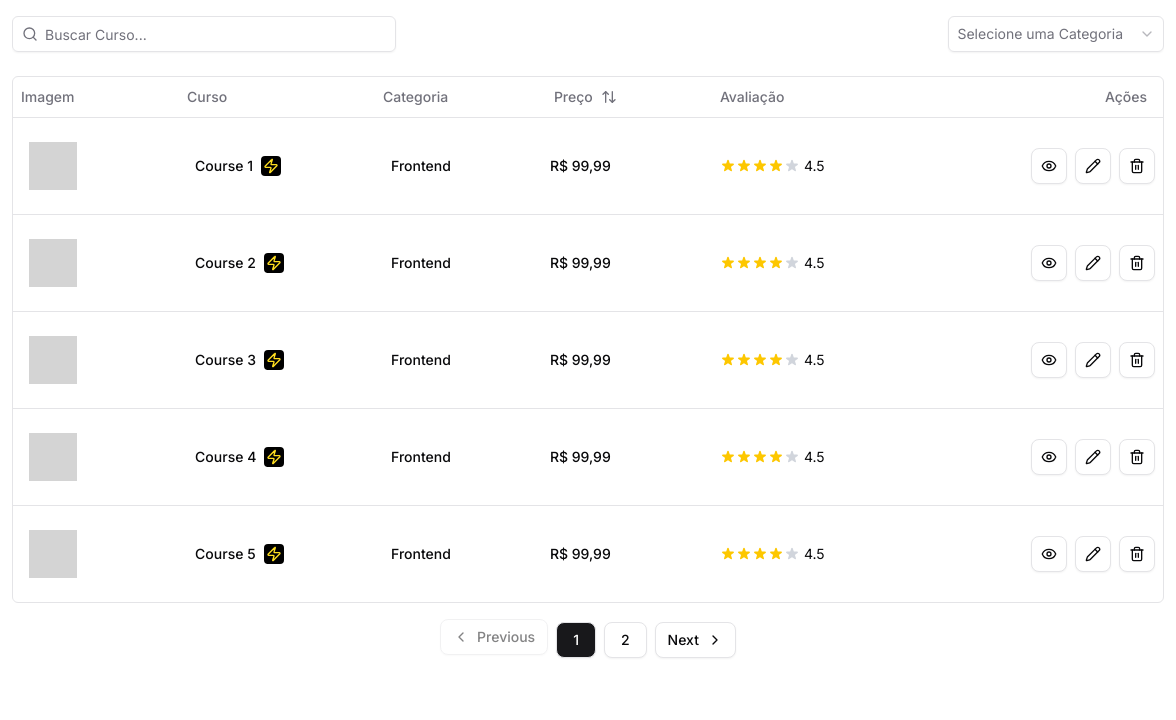
Test: CourseData Component › deve funcionar a paginação
The image size is (1176, 720).
Expected: the text "Course 1" is shown 5 times, [195,156,253,174]; [195,254,256,270]; [195,350,256,368]; [195,448,256,464]; [195,544,256,562]
Ir para próxima página
Click the button "Next" at (695, 640), box [655,622,736,658]
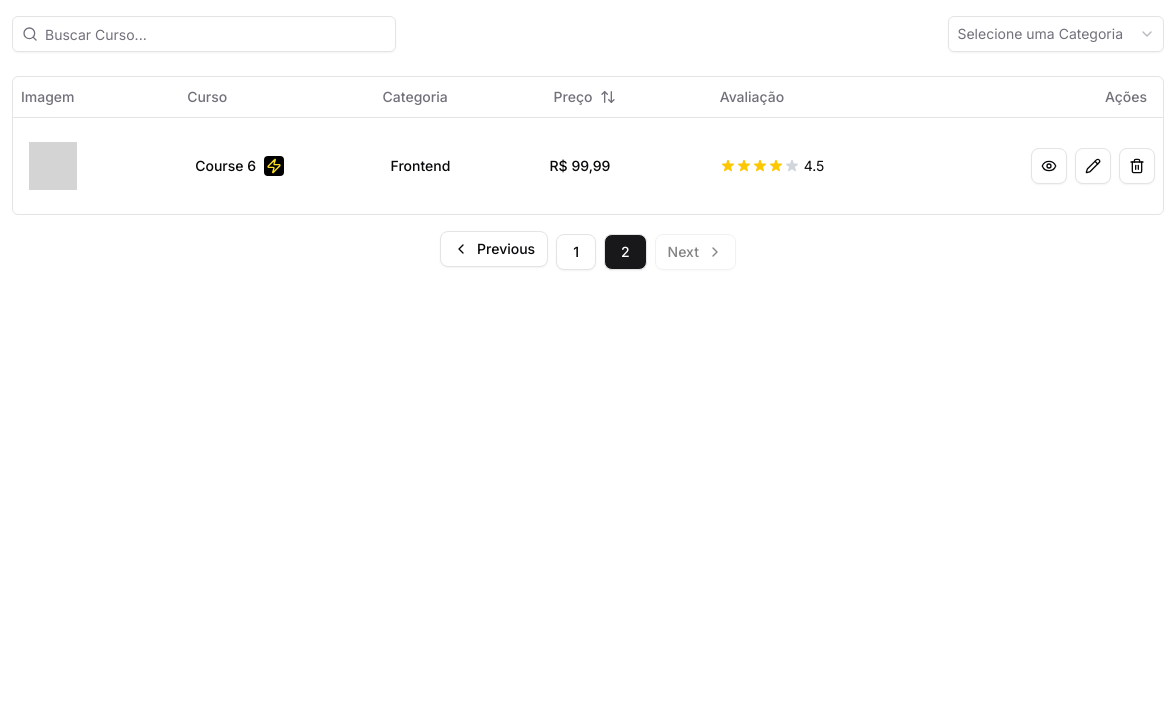
Expected: the text "Course 6" is shown, [195,156,256,174]
